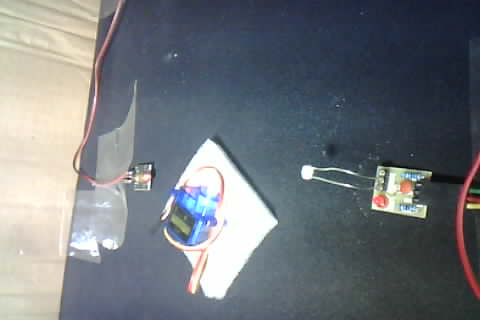motor: (153, 140, 263, 295)
